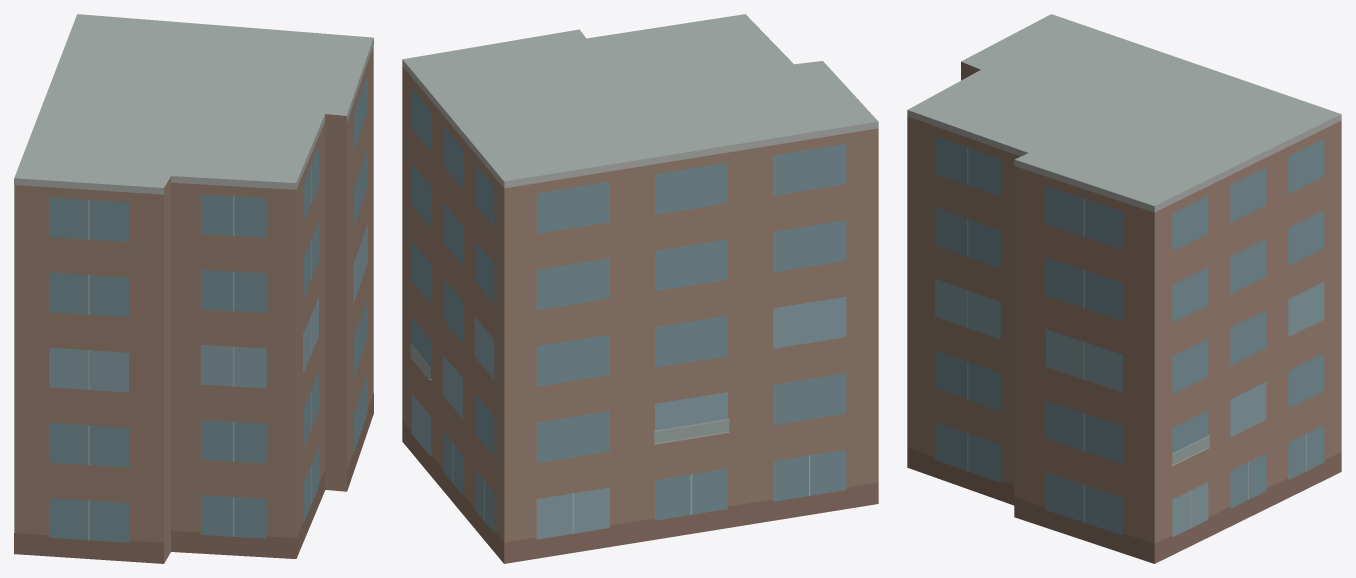
Rendered from survey-upis-32883332.glb.
3 renders of one model, left to right at view 1: azimuth 30°, elevation 25°; view 2: azimuth 150°, elevation 25°; view 3: azimuth 270°, elevation 25°, orthographic. The views are drawn at different scales.
Visible parts, largest first — view 1: survey-upis-32883332.tmp; view 2: survey-upis-32883332.tmp; view 3: survey-upis-32883332.tmp.
Boxes of the visible parts, x1,y1,x2,y2 form: survey-upis-32883332.tmp: [14, 14, 373, 563]; survey-upis-32883332.tmp: [402, 14, 878, 563]; survey-upis-32883332.tmp: [907, 14, 1341, 563].
Bounding box in the file's own units: 15.91 × 13.8 × 15.19.
